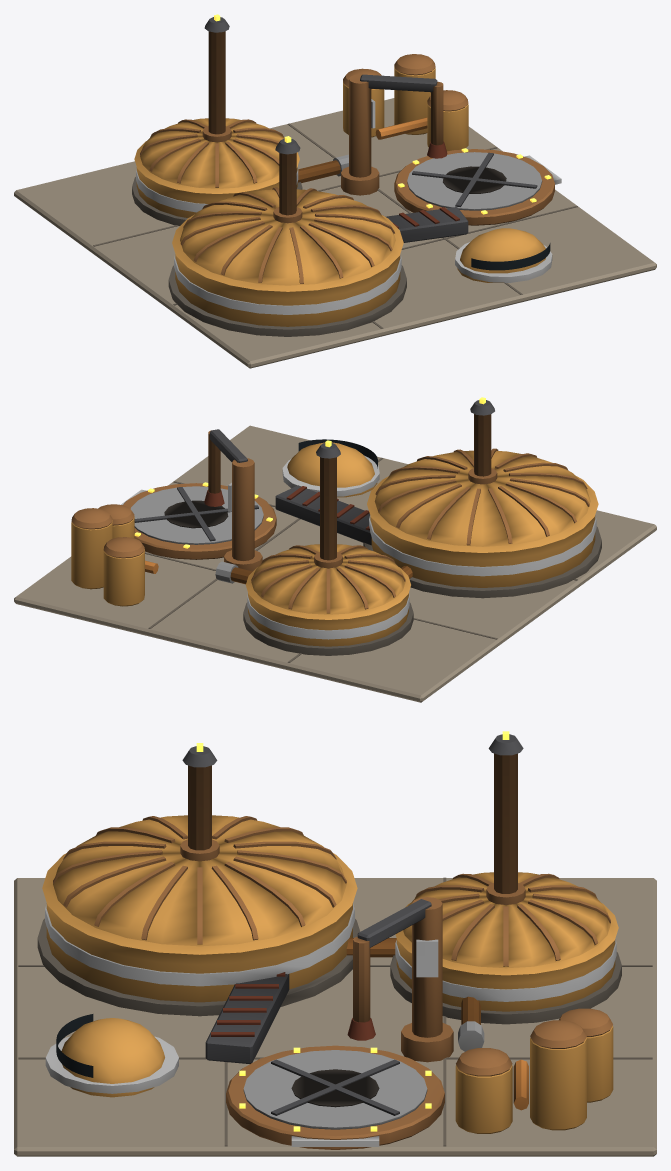
The model's file is ORDOS_REFINERY.glb.
3 renders of one model, top to bottom at view 1: azimuth 30°, elevation 25°; view 2: azimuth 150°, elevation 25°; view 3: azimuth 270°, elevation 25°, orthographic. The views are drawn at different scales.
Parts seen in each view (by area): view 1: base, tank_main, tank_north, plant, pad, crane; view 2: base, tank_main, tank_north, plant, pad, crane; view 3: base, tank_main, plant, tank_north, pad, crane.
Part boxes in pixels (left/top/right/bottom): base: left=14, top=98, right=656, bottom=368; tank_main: left=168, top=136, right=406, bottom=336; tank_north: left=132, top=14, right=302, bottom=225; plant: left=297, top=54, right=552, bottom=282; pad: left=394, top=148, right=561, bottom=225; crane: left=341, top=74, right=447, bottom=195; base: left=14, top=425, right=656, bottom=702; tank_main: left=363, top=397, right=601, bottom=598; tank_north: left=243, top=440, right=413, bottom=655; plant: left=71, top=439, right=412, bottom=606; pad: left=120, top=482, right=276, bottom=559; crane: left=204, top=429, right=262, bottom=571; base: left=14, top=877, right=656, bottom=1156; tank_main: left=37, top=743, right=360, bottom=1016; plant: left=45, top=938, right=613, bottom=1133; tank_north: left=390, top=731, right=621, bottom=1024; pad: left=226, top=1045, right=444, bottom=1149; crane: left=347, top=897, right=453, bottom=1062.
Bounding box in the file's own units: 2.98 × 1.45 × 2.94.
